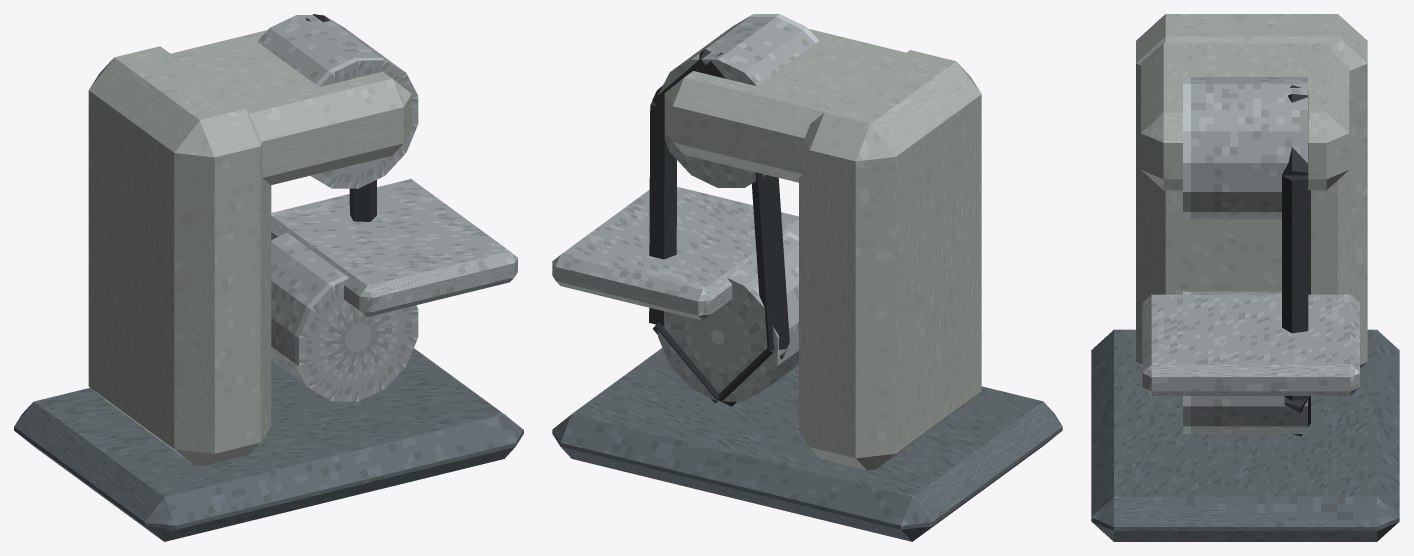
The model's file is belt_grinder.glb.
3 views of the same model, side by side, from view 1: azimuth 30°, elevation 25°; view 2: azimuth 150°, elevation 25°; view 3: azimuth 270°, elevation 25° (orthographic).
Parts seen in each view (by area): view 1: block_upright frame, block_cast base, block_abrasive belt roller (×2), block_tool rest, block_cantilever head, block_abrasive belt edge 0; view 2: block_upright frame, block_cast base, block_abrasive belt roller (×2), block_cantilever head, block_tool rest, block_abrasive belt edge 3, block_abrasive belt edge 0, block_abrasive belt edge 5, block_abrasive belt edge 4; view 3: block_cast base, block_upright frame, block_tool rest, block_abrasive belt roller (×2), block_cantilever head, block_abrasive belt edge 0, block_abrasive belt edge 1.
Boxes of the visible parts, x1=… form: block_upright frame: x1=88, y1=46, x2=271, y2=465; block_cast base: x1=14, y1=348, x2=523, y2=541; block_abrasive belt roller (×2): x1=257, y1=15, x2=418, y2=401; block_tool rest: x1=271, y1=179, x2=517, y2=316; block_cantilever head: x1=171, y1=30, x2=411, y2=185; block_abrasive belt edge 0: x1=349, y1=180, x2=376, y2=221; block_upright frame: x1=799, y1=50, x2=981, y2=470; block_cast base: x1=552, y1=348, x2=1062, y2=541; block_abrasive belt roller (×2): x1=658, y1=14, x2=819, y2=401; block_cantilever head: x1=664, y1=29, x2=905, y2=182; block_tool rest: x1=552, y1=186, x2=798, y2=320; block_abrasive belt edge 3: x1=752, y1=172, x2=789, y2=350; block_abrasive belt edge 0: x1=649, y1=101, x2=676, y2=326; block_abrasive belt edge 5: x1=653, y1=322, x2=718, y2=403; block_abrasive belt edge 4: x1=718, y1=348, x2=786, y2=406; block_cast base: x1=1091, y1=329, x2=1399, y2=541; block_upright frame: x1=1136, y1=14, x2=1367, y2=368; block_tool rest: x1=1142, y1=294, x2=1359, y2=395; block_abrasive belt roller (×2): x1=1183, y1=77, x2=1307, y2=433; block_cantilever head: x1=1141, y1=42, x2=1349, y2=190; block_abrasive belt edge 0: x1=1282, y1=175, x2=1308, y2=400; block_abrasive belt edge 1: x1=1282, y1=93, x2=1308, y2=175.
Bounding box in the file's own units: 0.8 × 0.7827 × 0.5414.
1 material, 1 textured.
